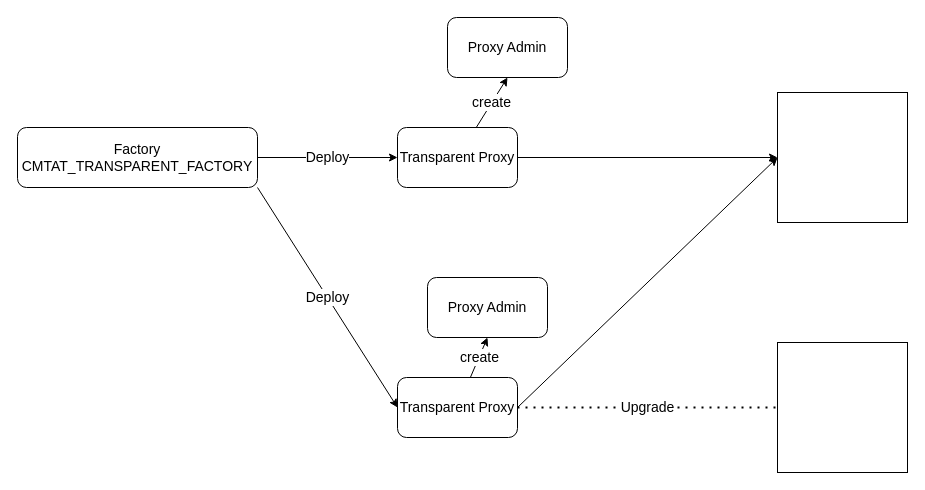
This 925x490 diagram has some shape labels left out. Here are the shapes that lost their labels. From the top down, the centre of each, then its label:
the point at 842,157: Implementation V1 CMTATUpgradeable
the point at 842,407: Implementation V2
